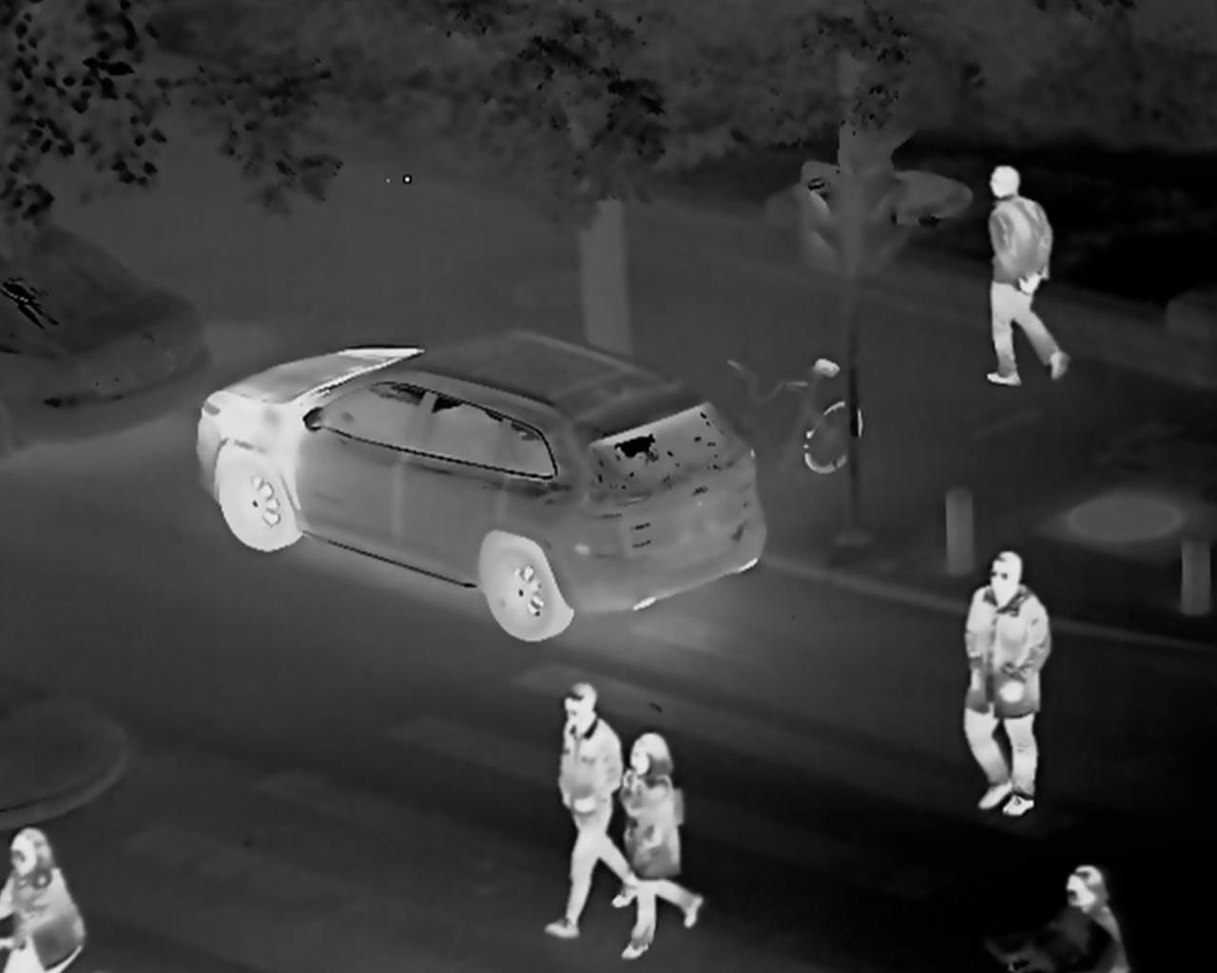person: (544, 683, 640, 939), (959, 547, 1047, 819), (976, 159, 1069, 393), (622, 729, 703, 966), (1018, 859, 1135, 973), (2, 823, 85, 973)
